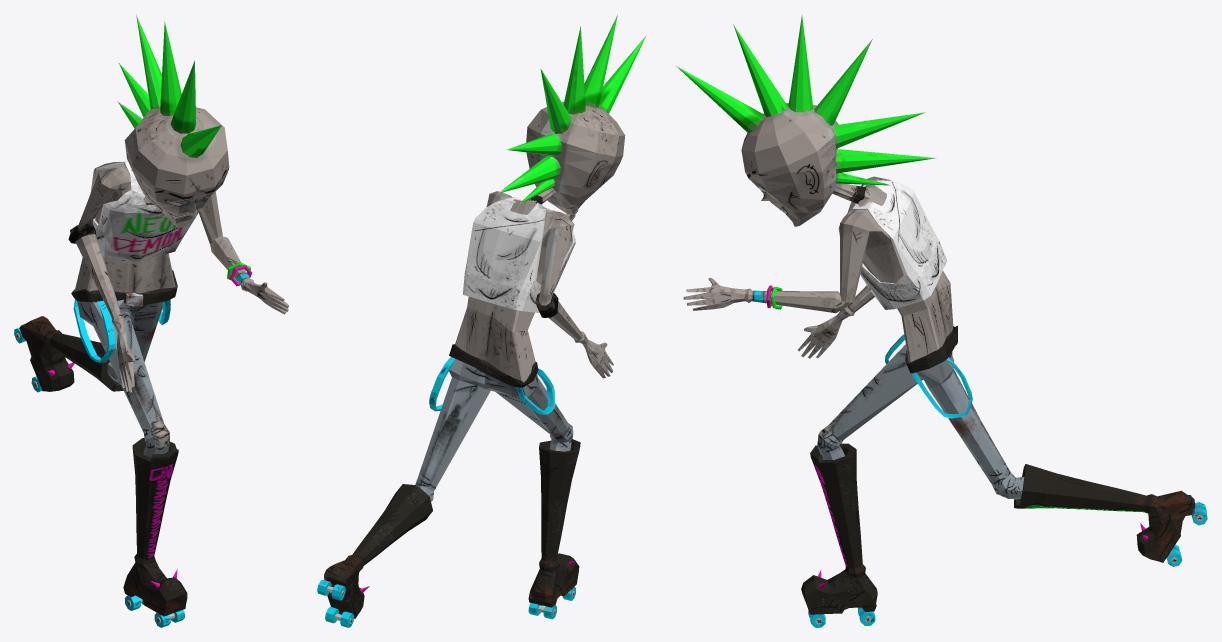
Rendered from punkAnimation_000013.obj.
3 renders of one model, left to right at view 1: azimuth 30°, elevation 25°; view 2: azimuth 150°, elevation 25°; view 3: azimuth 270°, elevation 25°, orthographic. The views are drawn at different scales.
Parts seen in each view (by area): view 1: Cube.004_Cube.003; view 2: Cube.004_Cube.003; view 3: Cube.004_Cube.003.
Boxes of the visible parts, x1,y1,x2,y2 form: Cube.004_Cube.003: [14, 15, 288, 627]; Cube.004_Cube.003: [317, 14, 646, 627]; Cube.004_Cube.003: [676, 15, 1207, 627].
Size of the model in its own units: 1.4 by 6.72 by 5.37.
